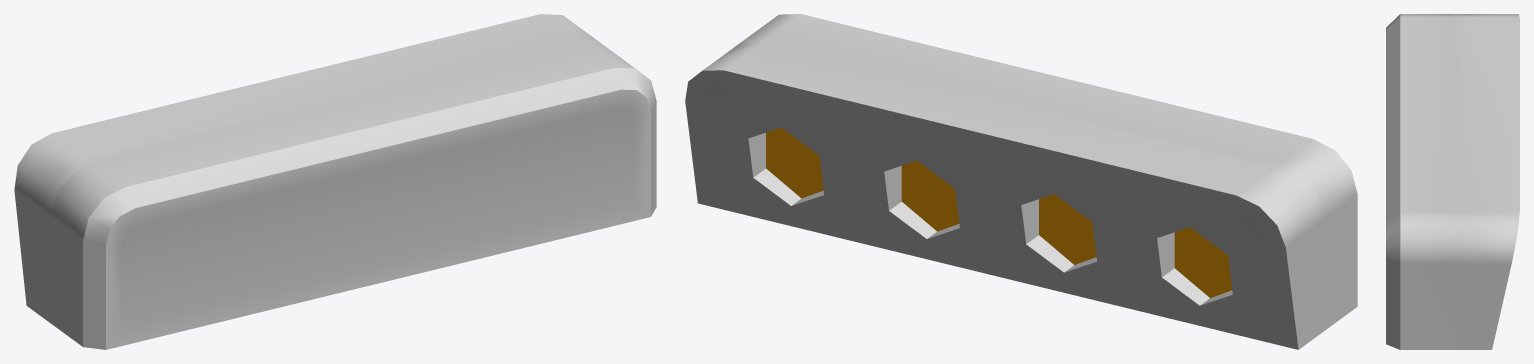
The model's file is obj_dekotora_caplight.fbx.
The picture shows the model from 3 angles, left to right: view 1: azimuth 30°, elevation 25°; view 2: azimuth 150°, elevation 25°; view 3: azimuth 270°, elevation 25°; orthographic projection. The views are drawn at different scales.
Parts seen in each view (by area): view 1: Cube.001; view 2: Cube.001; view 3: Cube.001.
Boxes of the visible parts, x1,y1,x2,y2 form: Cube.001: [14, 14, 656, 349]; Cube.001: [685, 14, 1357, 349]; Cube.001: [1386, 14, 1519, 349].
Size of the model in its own units: 8.05 by 2.01 by 2.
